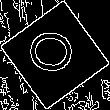O_E: (26, 30, 84, 80)
